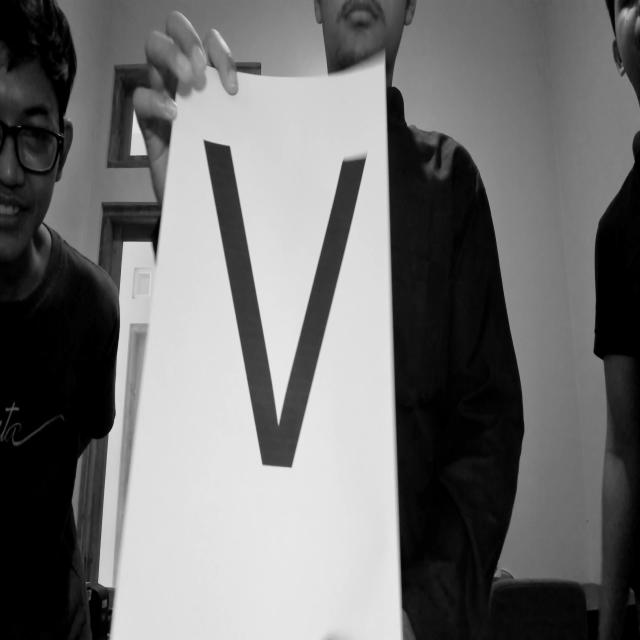v: (190, 107, 376, 500)
